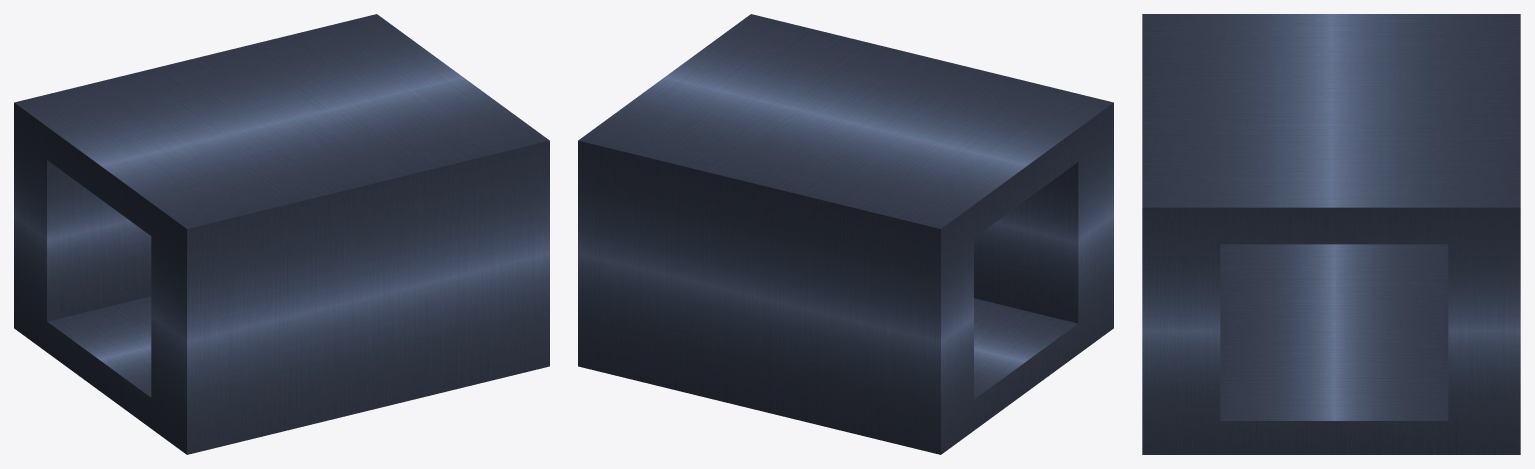
The model's file is MetalBox.fbx.
3 renders of one model, left to right at view 1: azimuth 30°, elevation 25°; view 2: azimuth 150°, elevation 25°; view 3: azimuth 270°, elevation 25°, orthographic. The views are drawn at different scales.
Parts seen in each view (by area): view 1: Box001; view 2: Box001; view 3: Box001.
Part boxes in pixels (x1,y1,x2,y2): Box001: (14, 14, 549, 454); Box001: (578, 14, 1113, 454); Box001: (1142, 14, 1520, 454).
Bounding box in the file's own units: 159 × 94.72 × 131.
